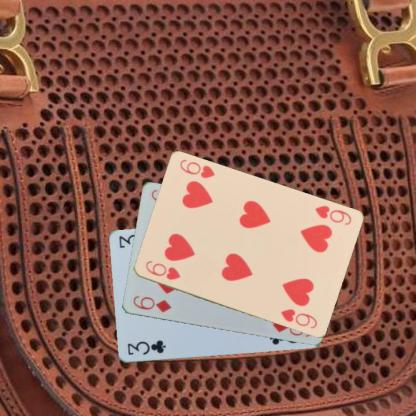3c: (125, 338, 167, 356)
6d: (130, 293, 173, 314)
6h: (312, 203, 352, 226), (143, 258, 181, 282)
